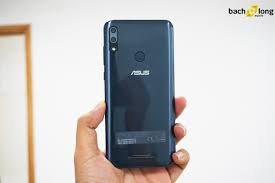asus: (98, 16, 178, 168)
